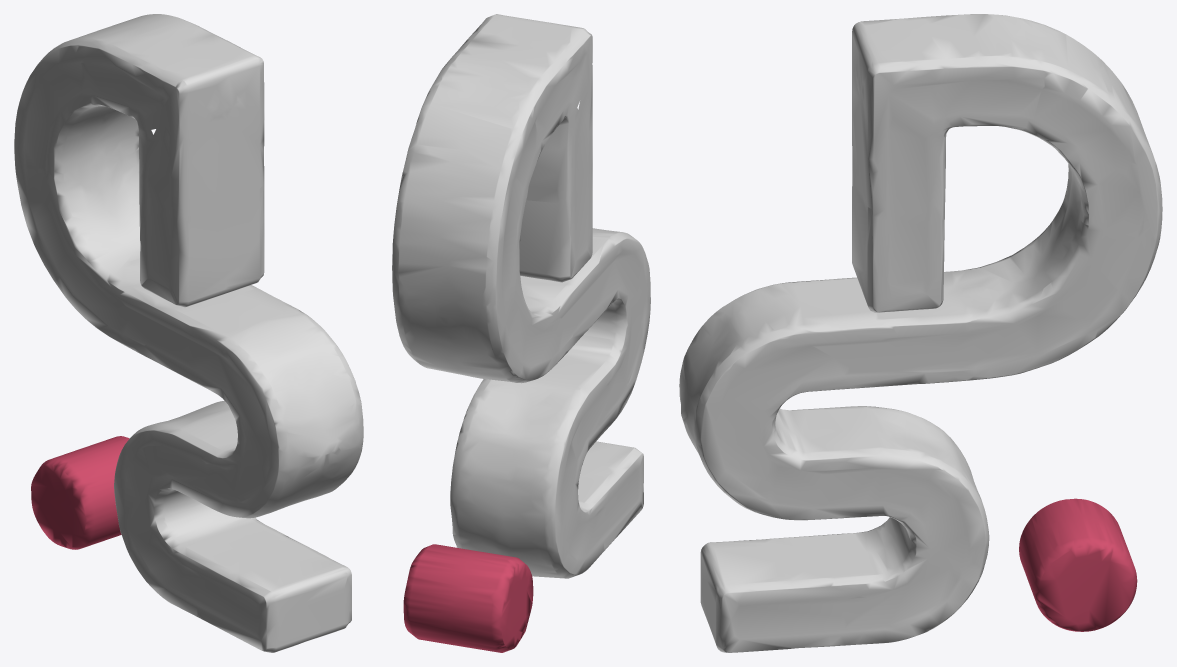
Rendered from ds-mark-3d.glb.
3 renders of one model, left to right at view 1: azimuth 30°, elevation 25°; view 2: azimuth 150°, elevation 25°; view 3: azimuth 270°, elevation 25°, orthographic. The views are drawn at different scales.
Visible parts, largest first — view 1: tripo_node_45a3e2d6-25e0-4582-a70f-d9943efa7948; view 2: tripo_node_45a3e2d6-25e0-4582-a70f-d9943efa7948; view 3: tripo_node_45a3e2d6-25e0-4582-a70f-d9943efa7948.
Boxes of the visible parts, bbox=[...] form: tripo_node_45a3e2d6-25e0-4582-a70f-d9943efa7948: bbox=[14, 14, 363, 652]; tripo_node_45a3e2d6-25e0-4582-a70f-d9943efa7948: bbox=[392, 14, 650, 652]; tripo_node_45a3e2d6-25e0-4582-a70f-d9943efa7948: bbox=[679, 14, 1162, 652].
Size of the model in its own units: 0.2897 by 0.9793 by 0.7342.
